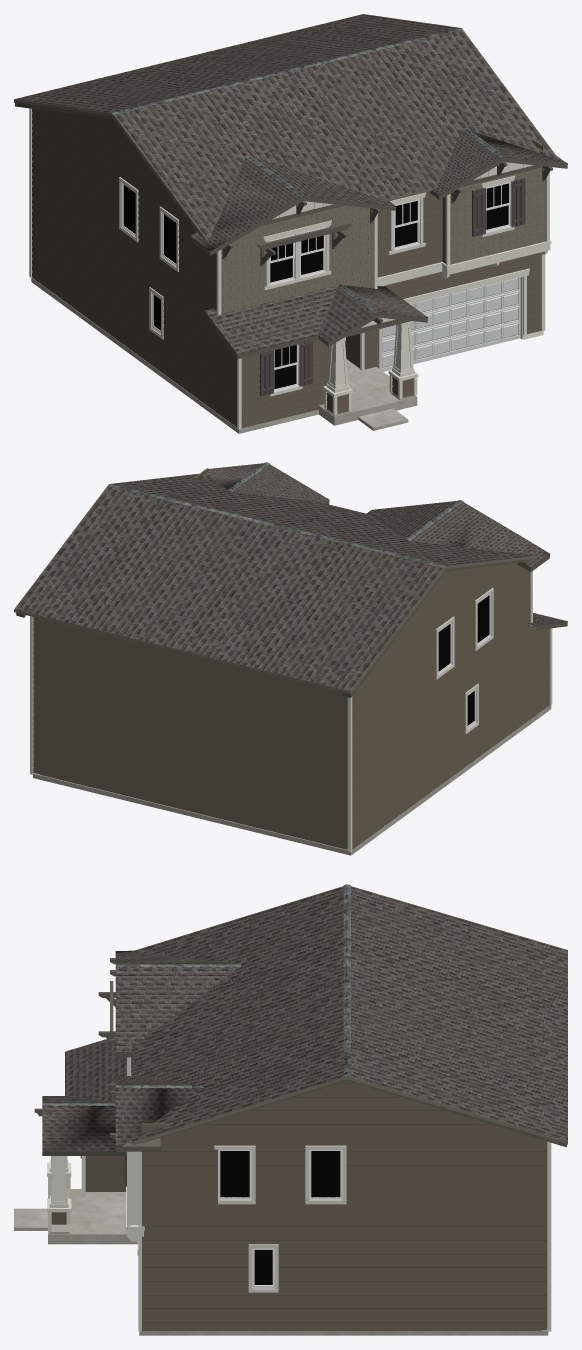
File: KBhomes_2345_elevation_craftsman.glb
3 views of the same model, one above another, from view 1: azimuth 30°, elevation 25°; view 2: azimuth 150°, elevation 25°; view 3: azimuth 270°, elevation 25° (orthographic). The views are drawn at different scales.
Visible parts, largest first — view 1: 2345_B; view 2: 2345_B; view 3: 2345_B.
Boxes of the visible parts, x1=… form: 2345_B: x1=14, y1=14, x2=567, y2=433; 2345_B: x1=14, y1=462, x2=567, y2=855; 2345_B: x1=14, y1=884, x2=567, y2=1335.
Bounding box in the file's own units: 12.83 × 8.12 × 15.34.
Materials: 13 (11 with a texture image).
